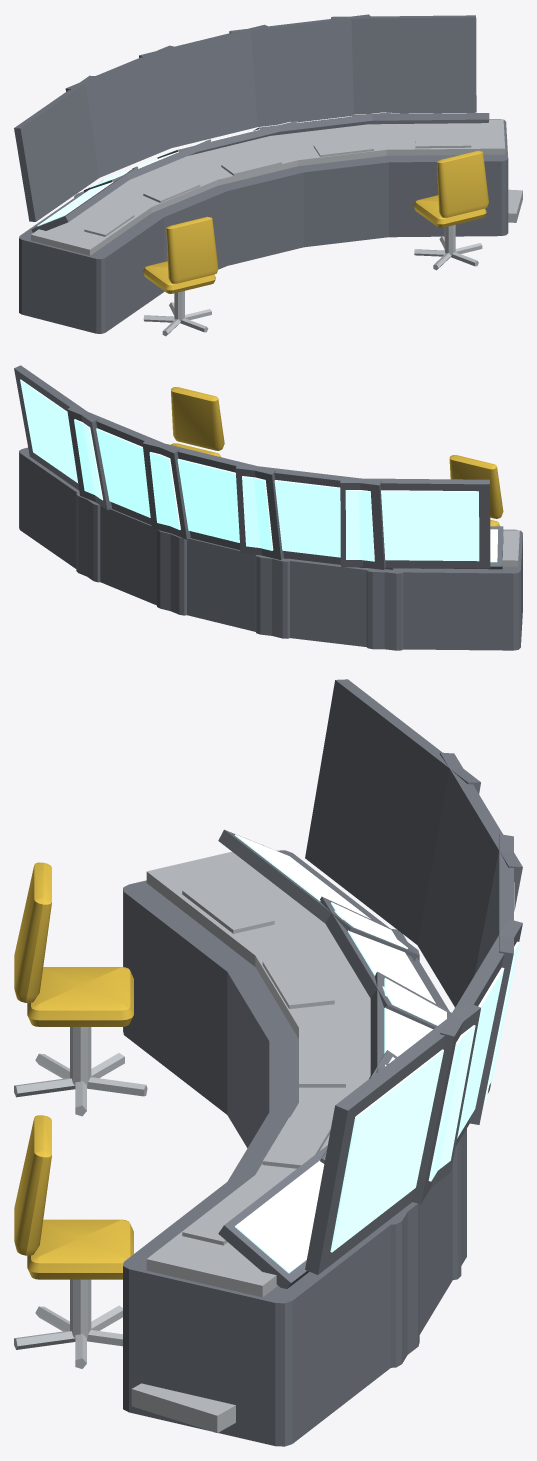
File: ufo-crash-site-and-recovery-facility-control-console-b-0f096727__17363.glb
The picture shows the model from 3 angles, top to bottom: view 1: azimuth 30°, elevation 25°; view 2: azimuth 150°, elevation 25°; view 3: azimuth 270°, elevation 25°; orthographic projection. The views are drawn at different scales.
Parts seen in each view (by area): view 1: control-console-bank; view 2: control-console-bank; view 3: control-console-bank.
Boxes of the visible parts, bbox=[...] form: control-console-bank: bbox=[14, 14, 522, 336]; control-console-bank: bbox=[14, 365, 522, 650]; control-console-bank: bbox=[14, 679, 522, 1446].
Bounding box in the file's own units: 5.03 × 1.69 × 2.38.
